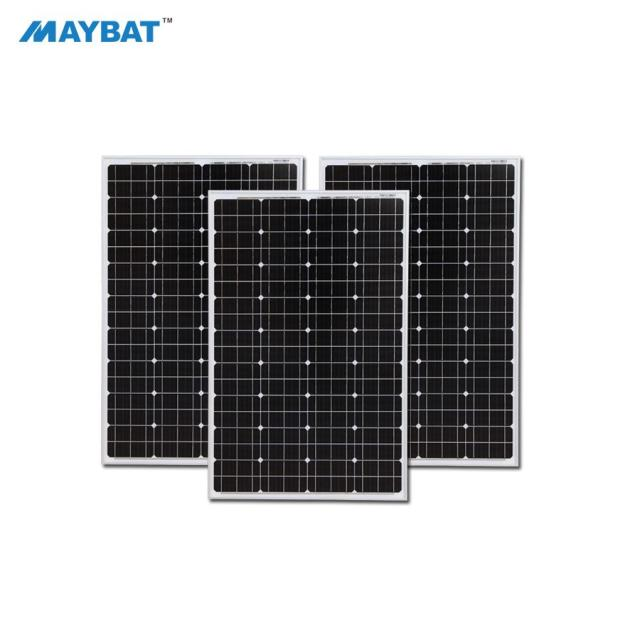clean-solar-panel: (102, 158, 520, 500)
